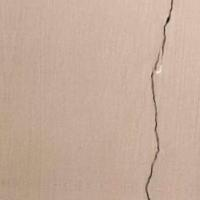crack: (140, 0, 193, 199)
